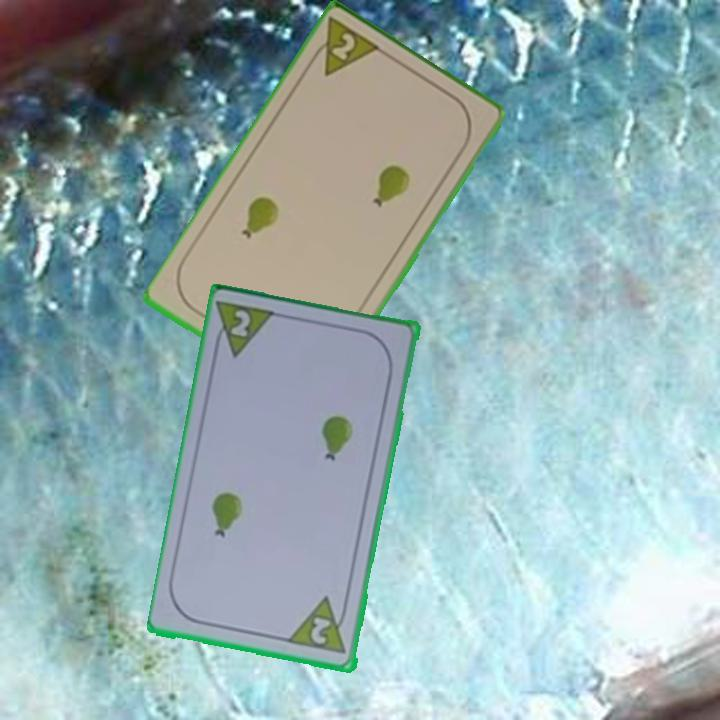2p: (304, 15, 386, 81), (209, 298, 280, 361), (286, 593, 352, 658)
